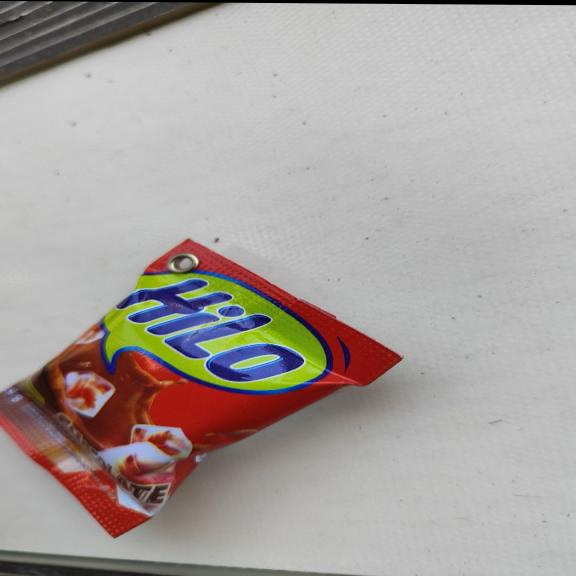Plastik: (0, 233, 406, 540)
